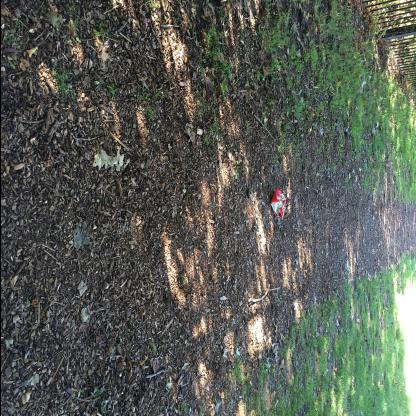plastik: (270, 188, 286, 220)
